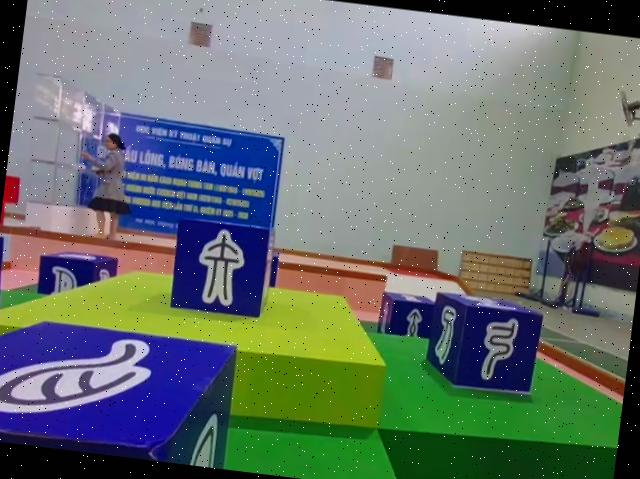R2 Fake Blue: (0, 309, 237, 468), (424, 290, 548, 397), (168, 216, 278, 323)
R2 Real Blue: (35, 247, 118, 303), (375, 290, 437, 340)
